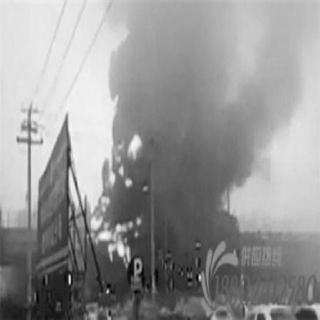Smoke: (143, 8, 286, 270), (114, 23, 140, 120)
